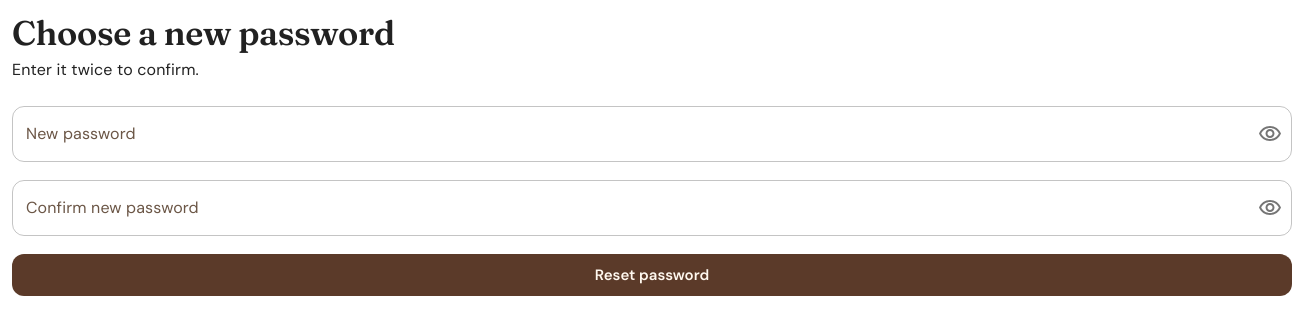
ResetPasswordForm › requires a new password of at least 15 characters
Type "short" into the password field labelled "New password" at [627, 134], box [12,106,1242,162]
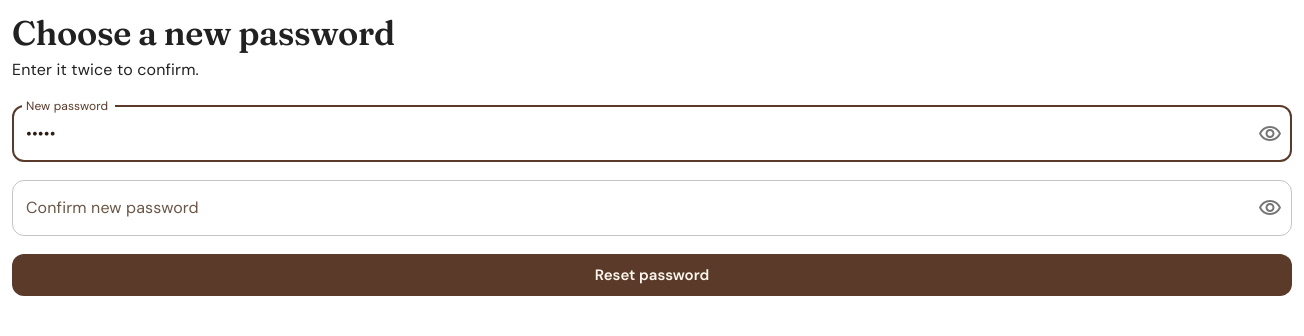
Type "short" into the password field labelled "Confirm new password" at [627, 208], box [12,180,1242,236]
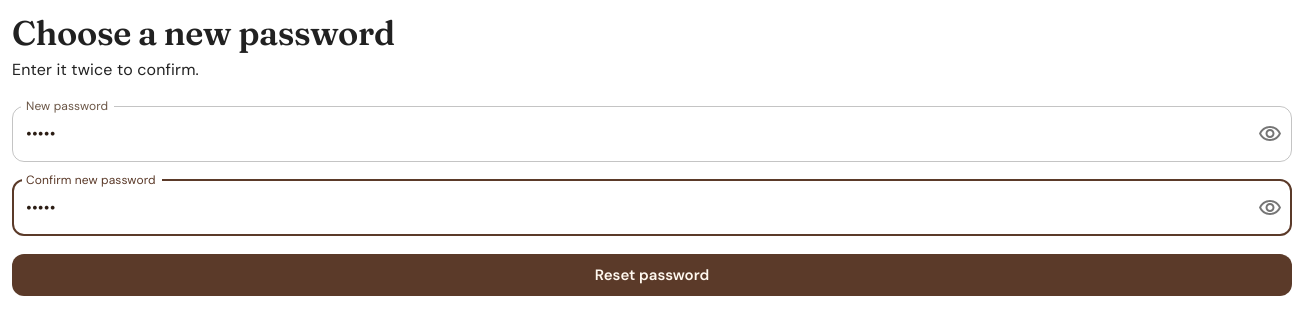
Click the button "Reset password" at [652, 275], box [12,254,1292,296]
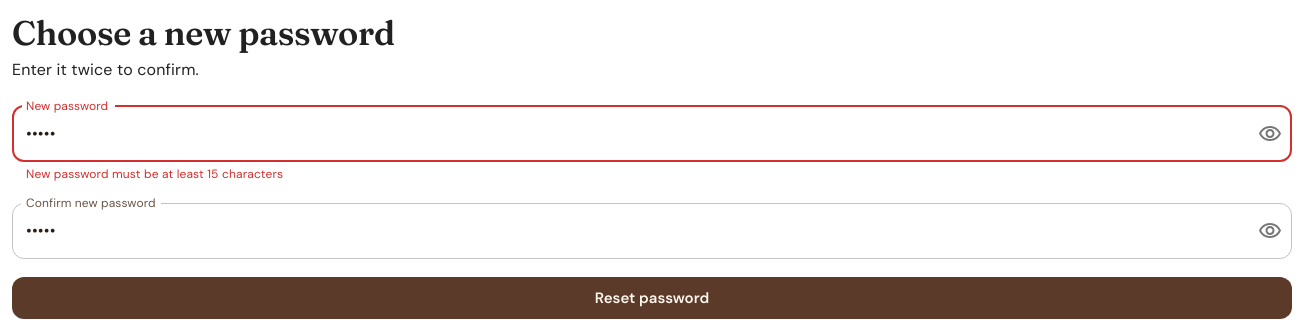
Result: the text "New password must be at least 15 characters" is shown at [26,166,283,182]
